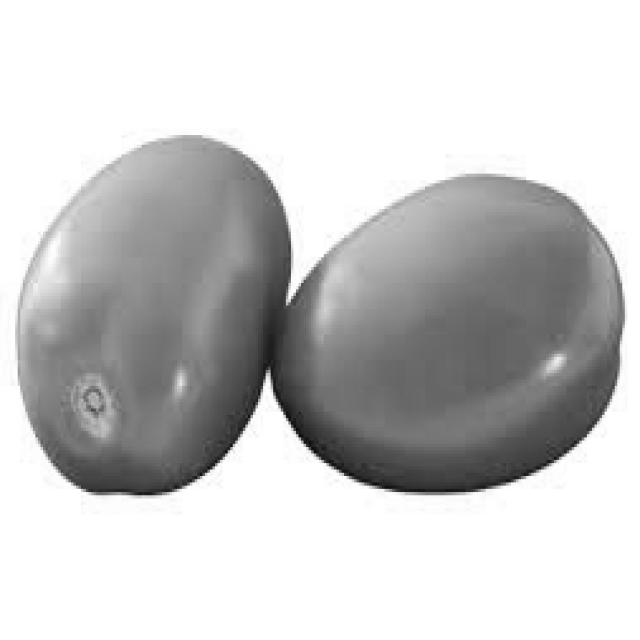Fresh_tomato: (296, 143, 627, 499), (14, 132, 290, 498)
